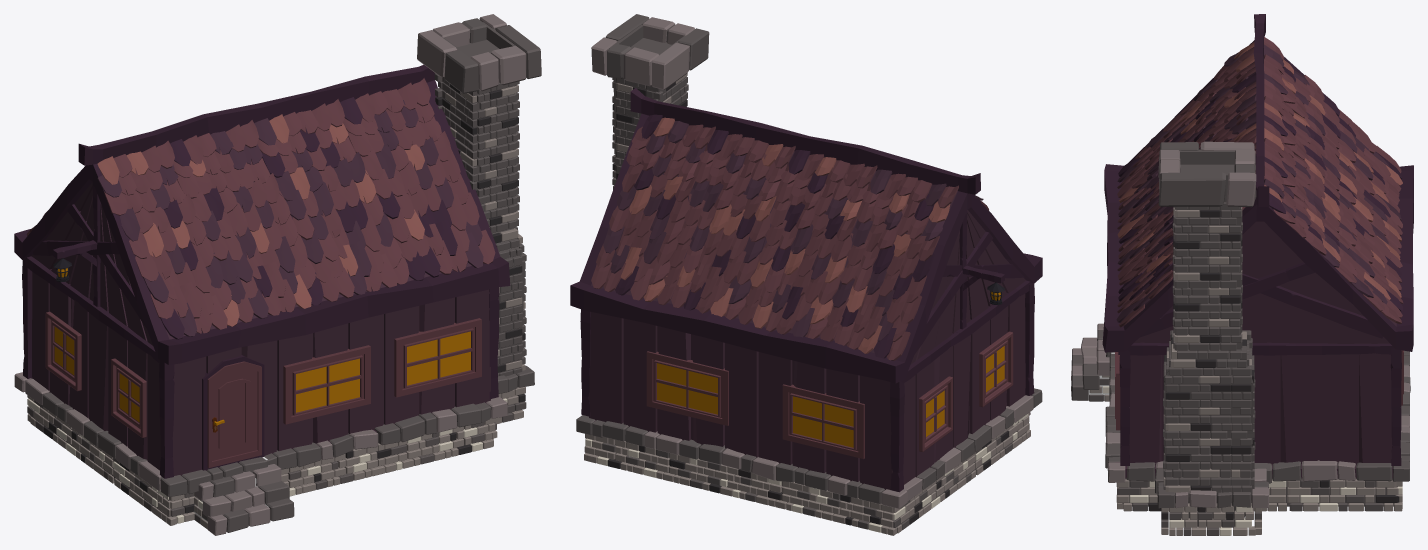
Rendered from casa-madeira4.fbx.
The picture shows the model from 3 angles, left to right: view 1: azimuth 30°, elevation 25°; view 2: azimuth 150°, elevation 25°; view 3: azimuth 270°, elevation 25°; orthographic projection. The views are drawn at different scales.
Parts seen in each view (by area): view 1: Cube.154, Cube.014; view 2: Cube.154; view 3: Cube.154.
Part boxes in pixels (bbox=[...]): Cube.154: bbox=[14, 14, 541, 535]; Cube.014: bbox=[207, 361, 261, 468]; Cube.154: bbox=[570, 14, 1042, 535]; Cube.154: bbox=[1071, 14, 1413, 535].
Bounding box in the file's own units: 632 × 504 × 430.
